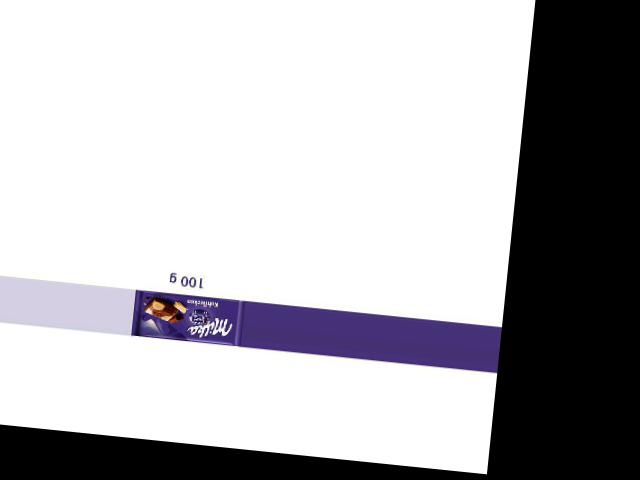chocolate: (130, 287, 245, 347)
